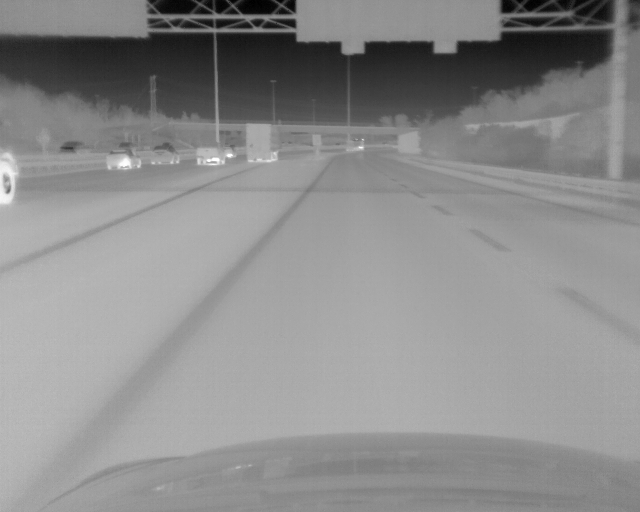car: (1, 145, 21, 206), (105, 149, 141, 170), (196, 142, 225, 165), (149, 145, 180, 165), (345, 137, 365, 153), (223, 146, 236, 159)
